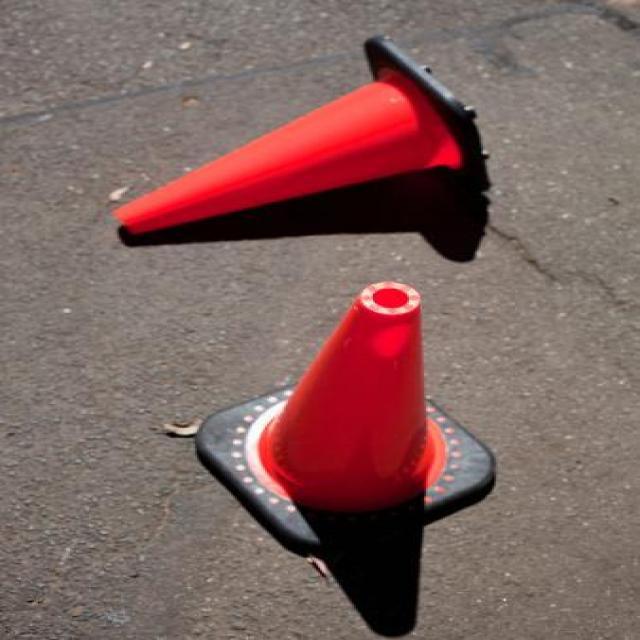Cone: (193, 279, 508, 547), (108, 34, 494, 242)
